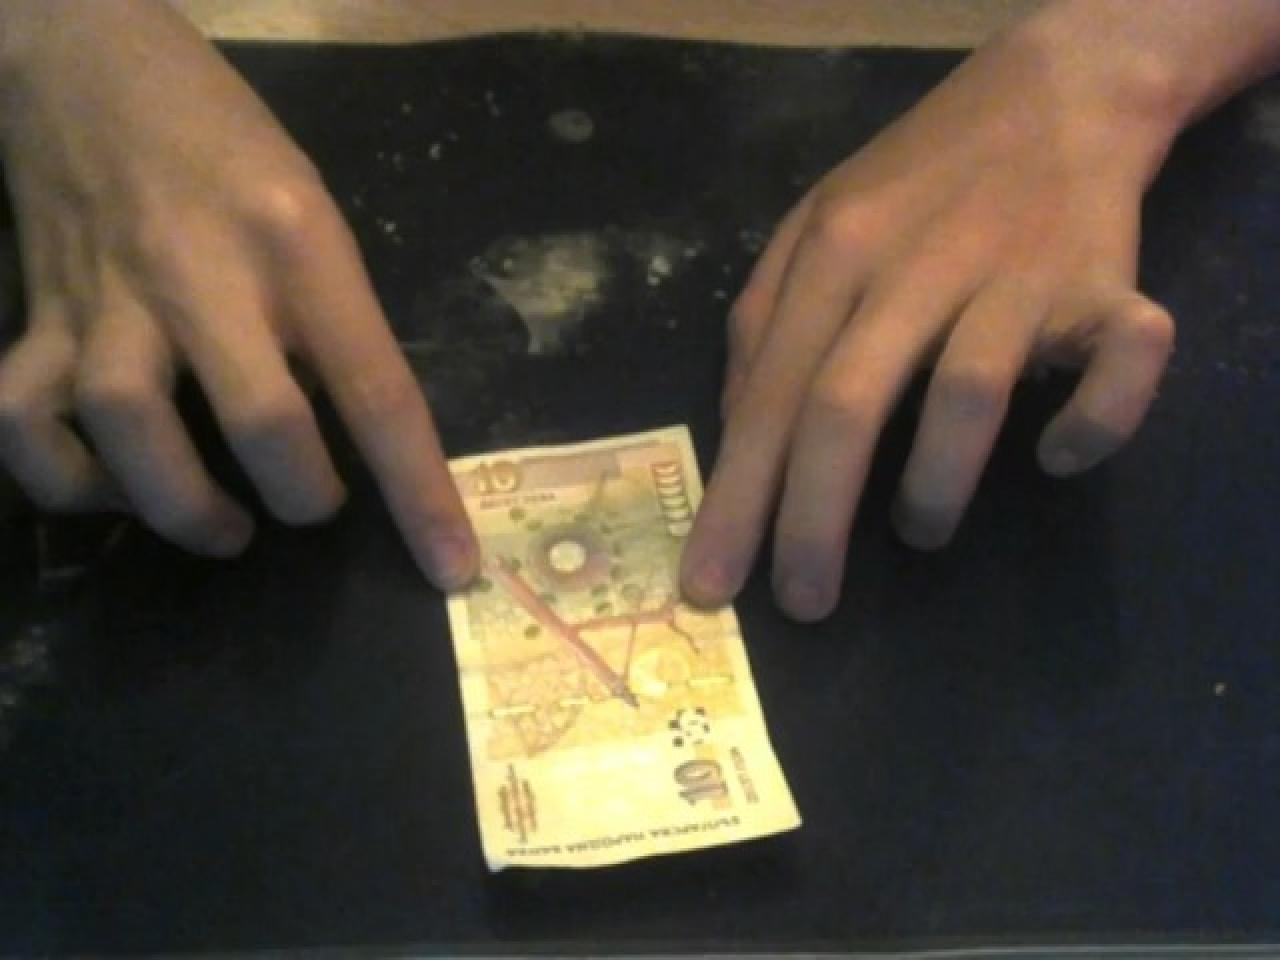10leva: (440, 422, 804, 874)
